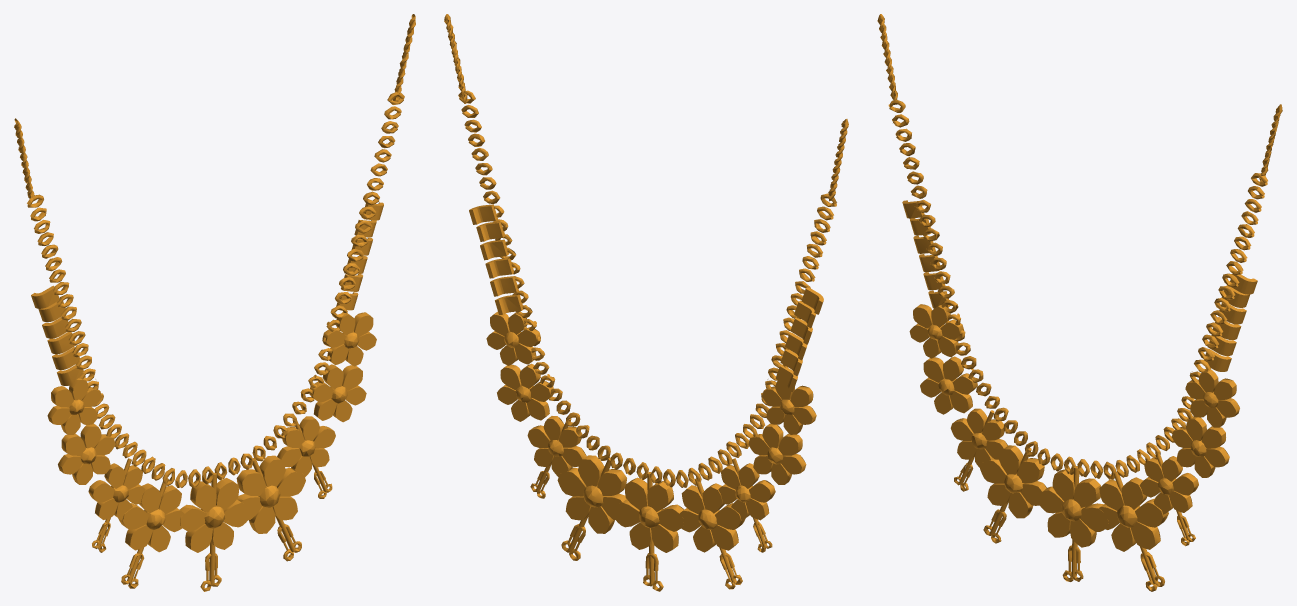
File: necklace.fbx
3 renders of one model, left to right at view 1: azimuth 30°, elevation 25°; view 2: azimuth 150°, elevation 25°; view 3: azimuth 330°, elevation 25°, orthographic.
Parts seen in each view (by area): view 1: necklace; view 2: necklace; view 3: necklace.
Part boxes in pixels (x1=…): necklace: x1=14, y1=14, x2=415, y2=591; necklace: x1=444, y1=14, x2=848, y2=591; necklace: x1=877, y1=14, x2=1282, y2=591.
Bounding box in the file's own units: 1250 × 1562 × 70.68.
